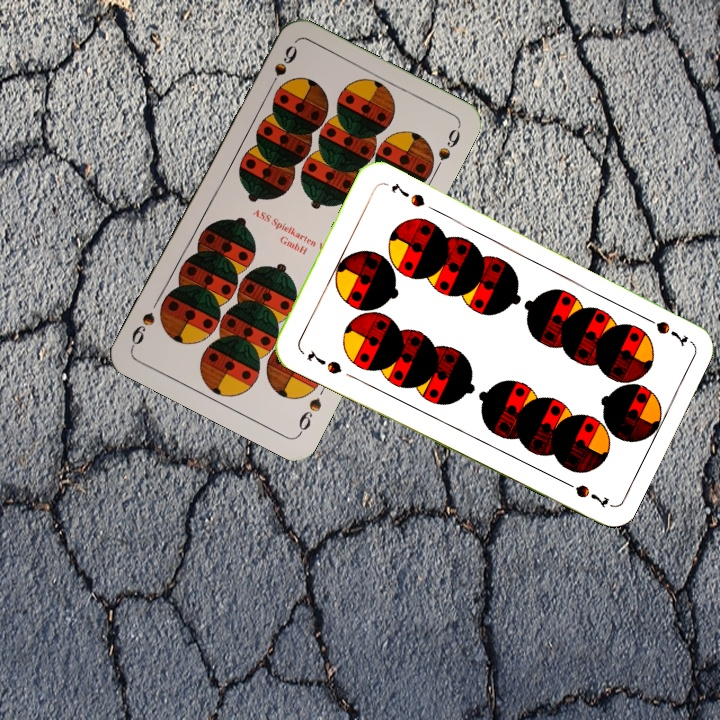S7: (638, 311, 691, 349), (303, 345, 344, 377)
S9: (263, 41, 300, 95), (294, 393, 325, 437)
